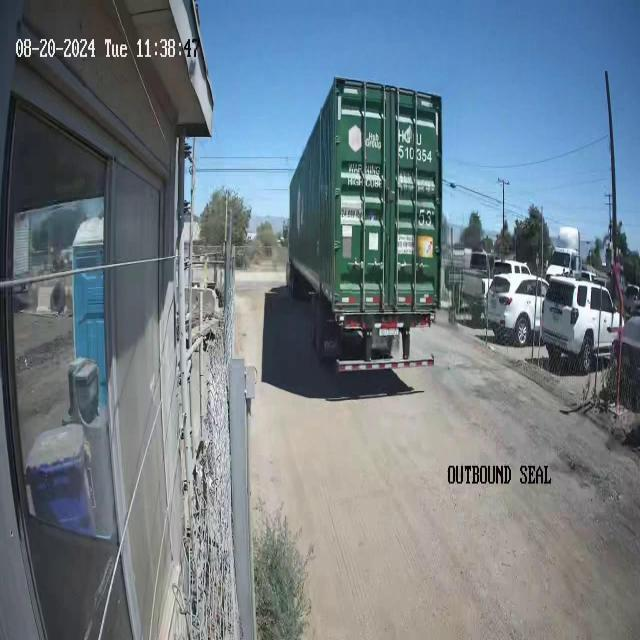TRUCK_OUT: (286, 75, 444, 366)
